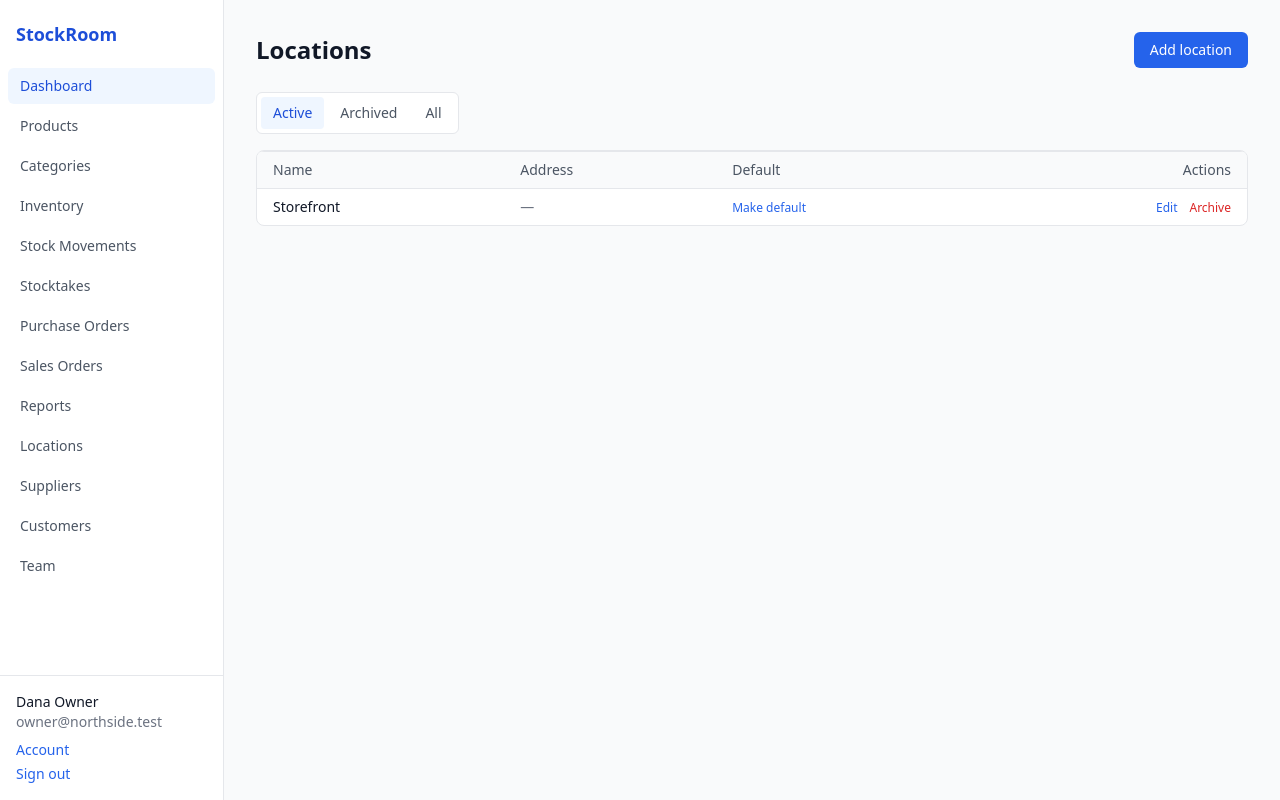
Test: LocationsPage archive › surfaces a rejected archive rather than failing silently
The width and height of the screenshot is (1280, 800).
Expected: the text "Storefront" is shown, [257, 188, 504, 225]
Click the button "Archive". click: [1210, 208]
box: [1190, 200, 1231, 216]
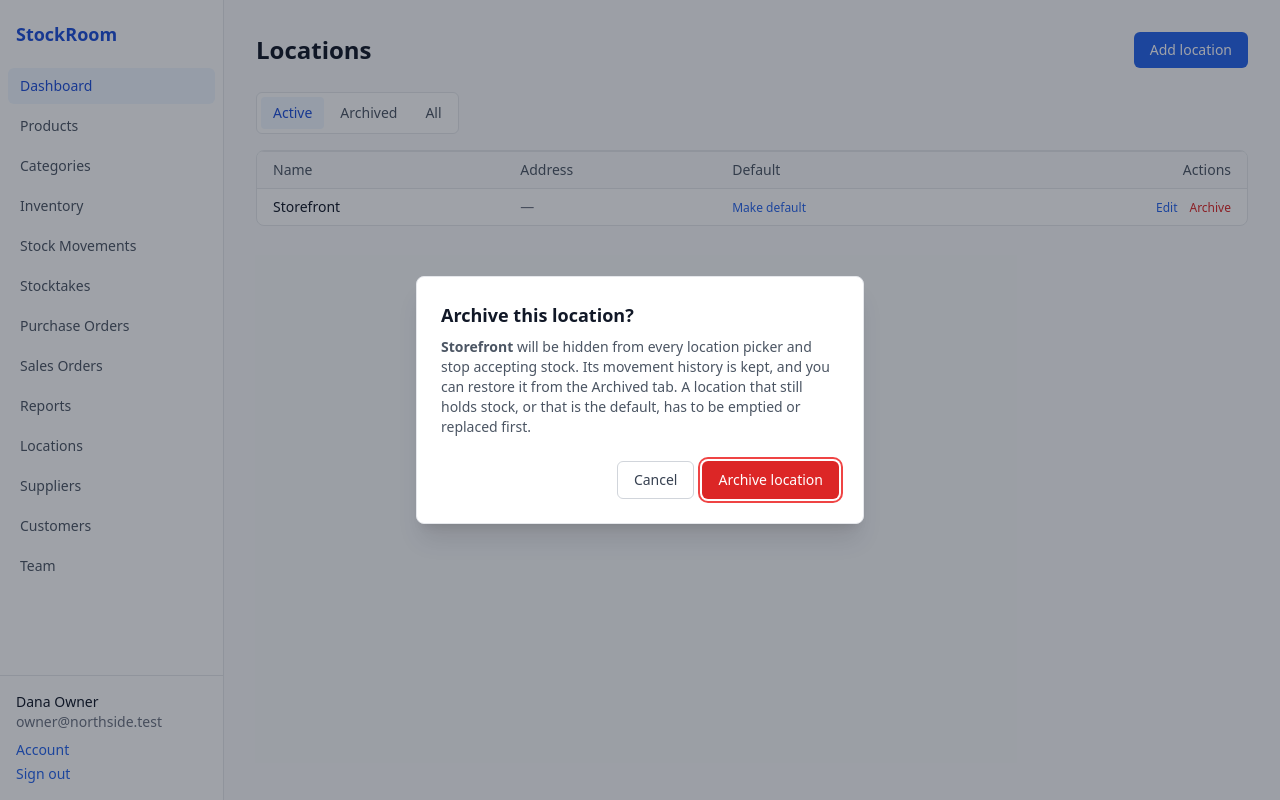
Click the button "Archive location". click: [771, 480]
box: [702, 461, 839, 499]
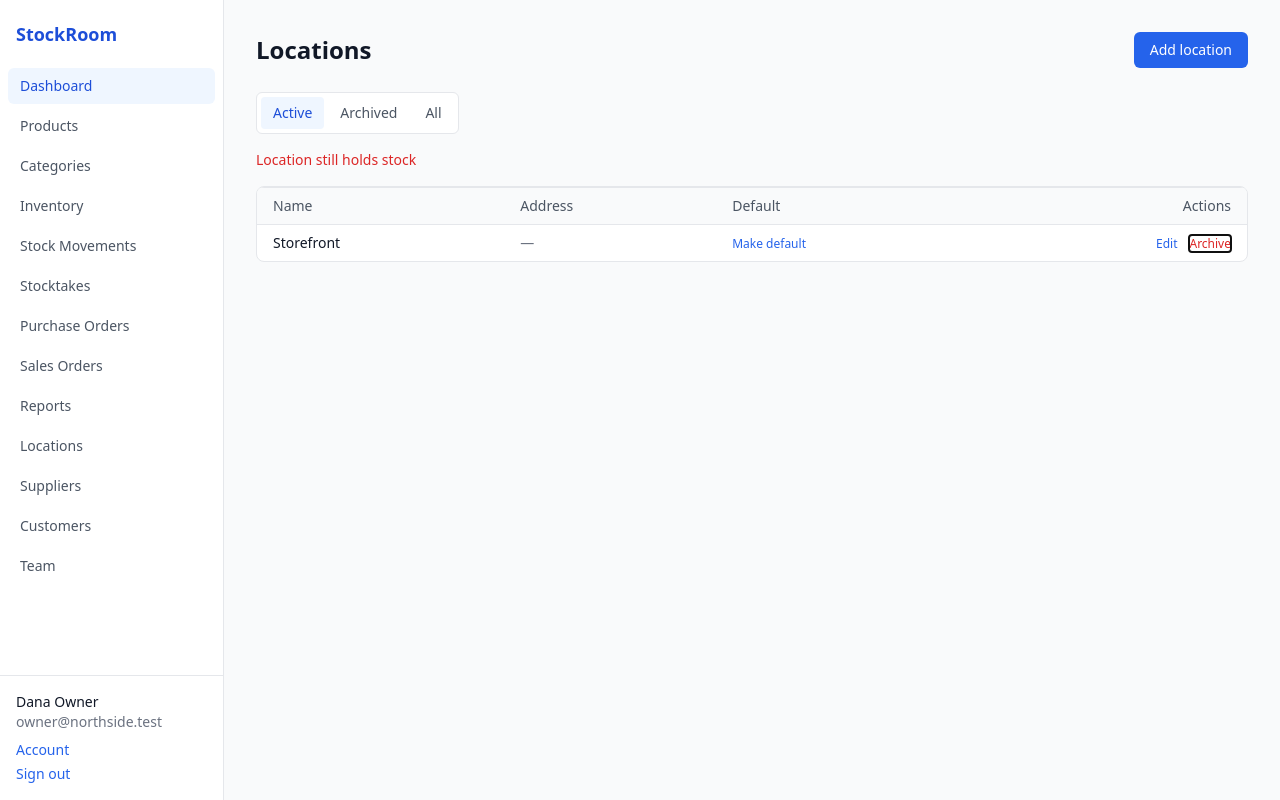
Expected: the text "Storefront" is shown, [257, 224, 504, 261]
Result: the text "Location still holds stock" is shown at [256, 150, 416, 169]
